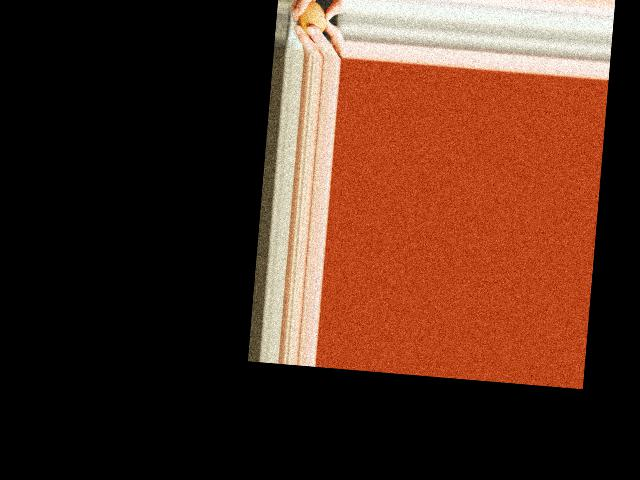egg: (296, 0, 328, 37)
